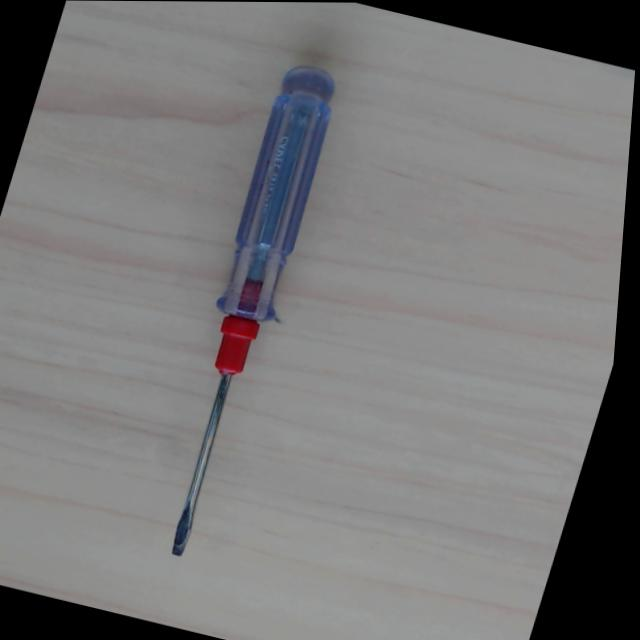Obeng-Kecil: (154, 59, 340, 565)
